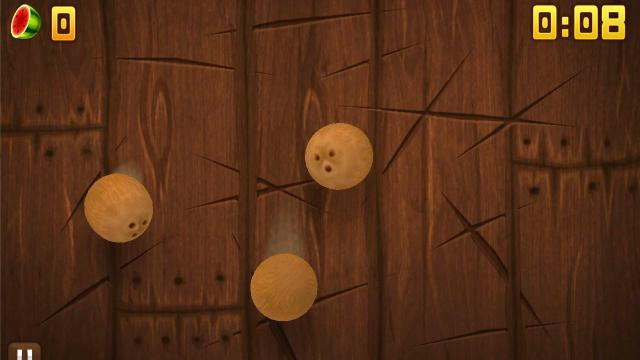fruit: (82, 172, 154, 242), (250, 253, 318, 321), (305, 122, 373, 190)
ignore: (9, 4, 43, 40)
